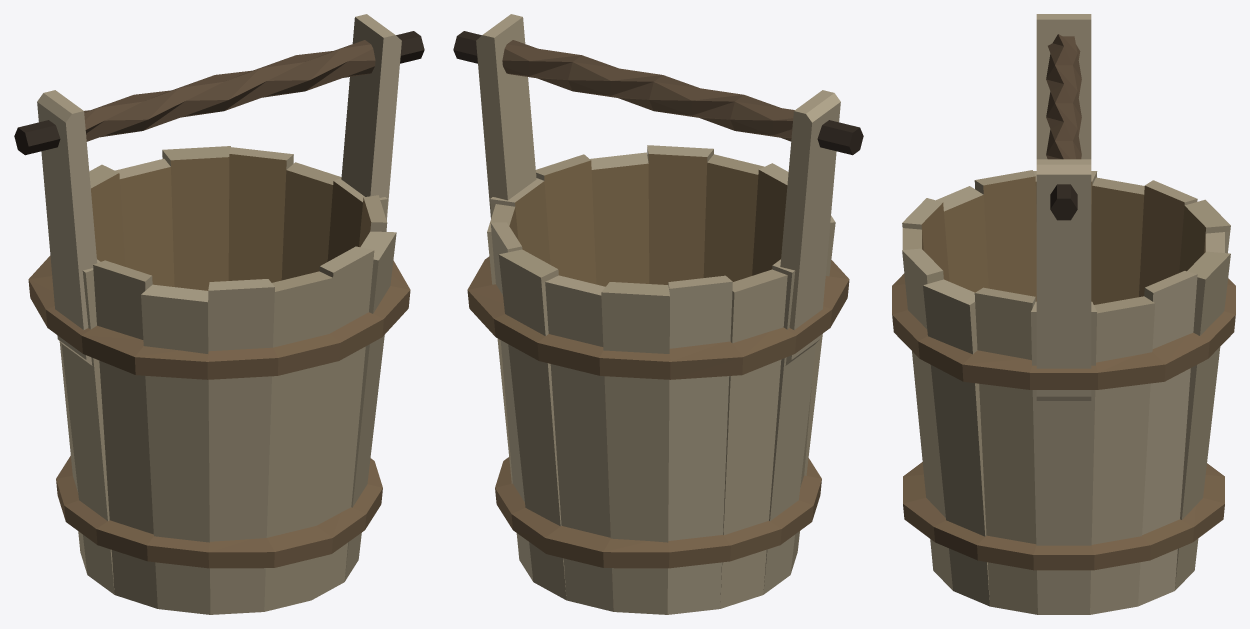
File: wooden-teoke-bucket-e65f35.glb
3 views of the same model, side by side, from view 1: azimuth 30°, elevation 25°; view 2: azimuth 150°, elevation 25°; view 3: azimuth 270°, elevation 25° (orthographic). The views are drawn at different scales.
Parts seen in each view (by area): view 1: teoke-bucket; view 2: teoke-bucket; view 3: teoke-bucket.
Part boxes in pixels (bbox=[...]): teoke-bucket: bbox=[14, 14, 424, 614]; teoke-bucket: bbox=[453, 14, 863, 614]; teoke-bucket: bbox=[892, 14, 1235, 614].
Size of the model in its own units: 0.3983 by 0.473 by 0.3133.
